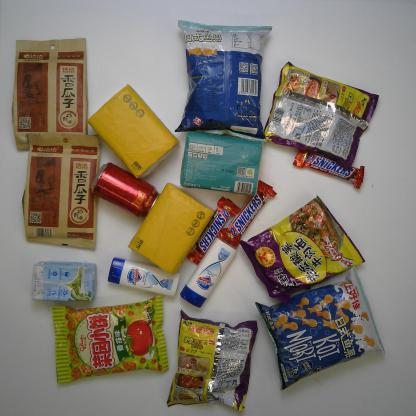Chocolate: (185, 198, 242, 266), (218, 180, 277, 245), (292, 148, 365, 190)
Dried Food: (20, 133, 100, 249), (10, 37, 90, 151)
Drink: (90, 162, 160, 218)
Instant Noodles: (239, 194, 366, 304), (262, 61, 380, 170), (166, 309, 258, 413)
Milk: (30, 260, 98, 302)
Personal Hygiene: (180, 238, 238, 309), (106, 257, 180, 298)
Puffed Food: (255, 266, 386, 392), (174, 19, 272, 142), (52, 294, 170, 385)
Tissue: (87, 84, 181, 179), (128, 183, 215, 275), (180, 130, 262, 196)
